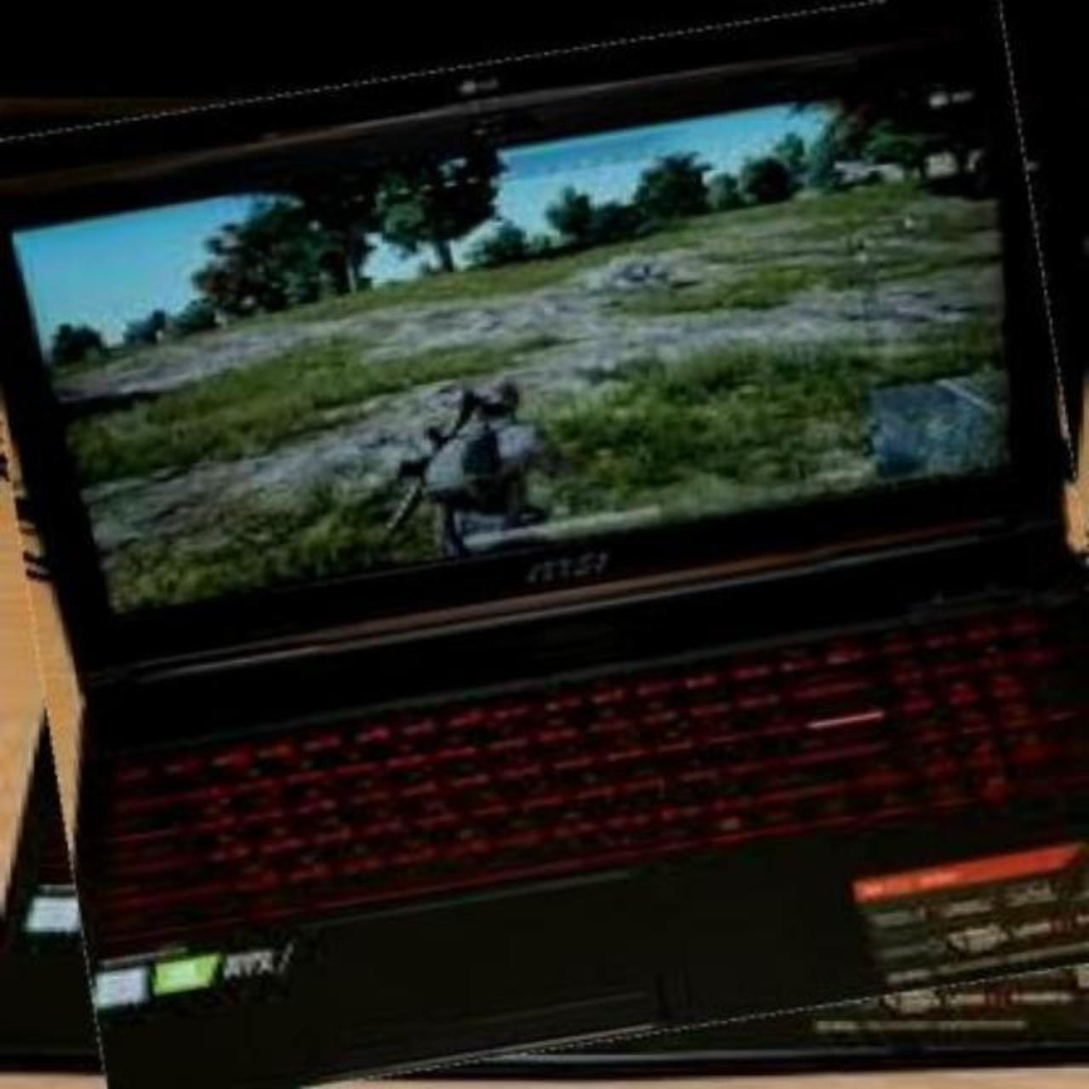laptop: (0, 21, 1089, 1078)
